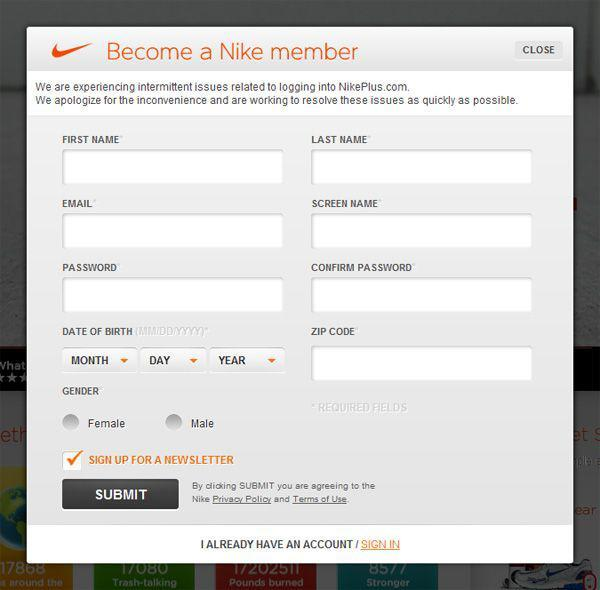button: (63, 479, 180, 511)
checkbox: (64, 455, 82, 472)
dropdown: (212, 350, 285, 376), (64, 350, 137, 374), (142, 350, 209, 375)
input: (314, 214, 532, 251), (63, 214, 282, 249), (63, 151, 285, 185), (312, 150, 530, 183), (314, 347, 534, 379), (312, 281, 533, 312), (66, 282, 284, 312)
label: (91, 454, 239, 470), (60, 326, 210, 340), (309, 261, 413, 276), (312, 197, 382, 210), (62, 133, 122, 148), (308, 134, 373, 147), (61, 262, 121, 274), (312, 326, 357, 339), (62, 385, 102, 398), (88, 420, 128, 432), (191, 418, 221, 433), (62, 199, 96, 211)
radio: (166, 414, 186, 436), (62, 415, 85, 434)
